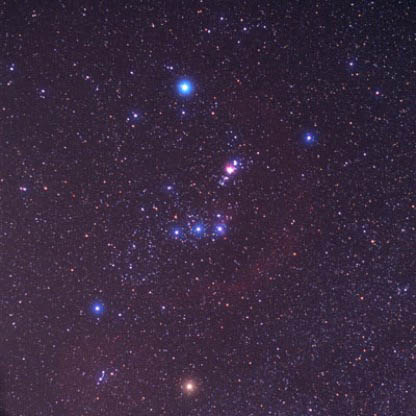Orion: (163, 69, 208, 108), (171, 369, 206, 397), (78, 296, 112, 323), (300, 126, 325, 151), (214, 215, 231, 243), (169, 219, 184, 248), (190, 215, 205, 243)
